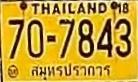0: (27, 19, 43, 57)
3: (114, 18, 130, 56)
4: (96, 18, 112, 56)
7: (8, 18, 23, 58), (59, 18, 74, 57)
8: (78, 18, 93, 57)
SPK: (30, 61, 114, 81)
